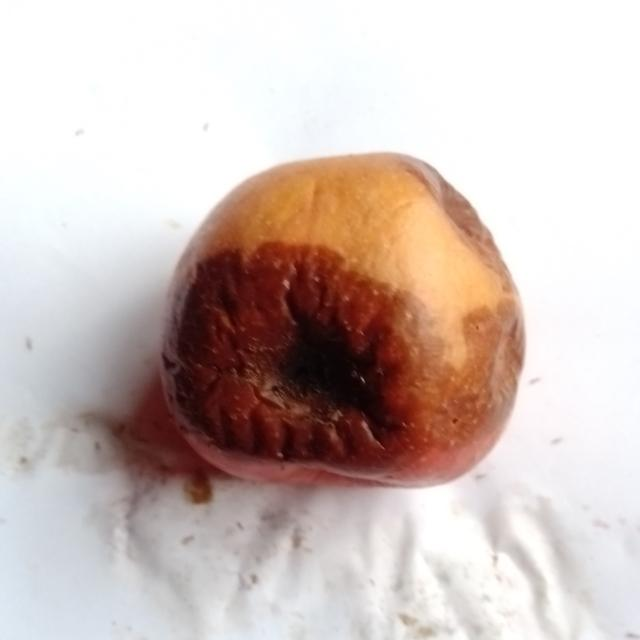apple: (163, 154, 524, 485)
